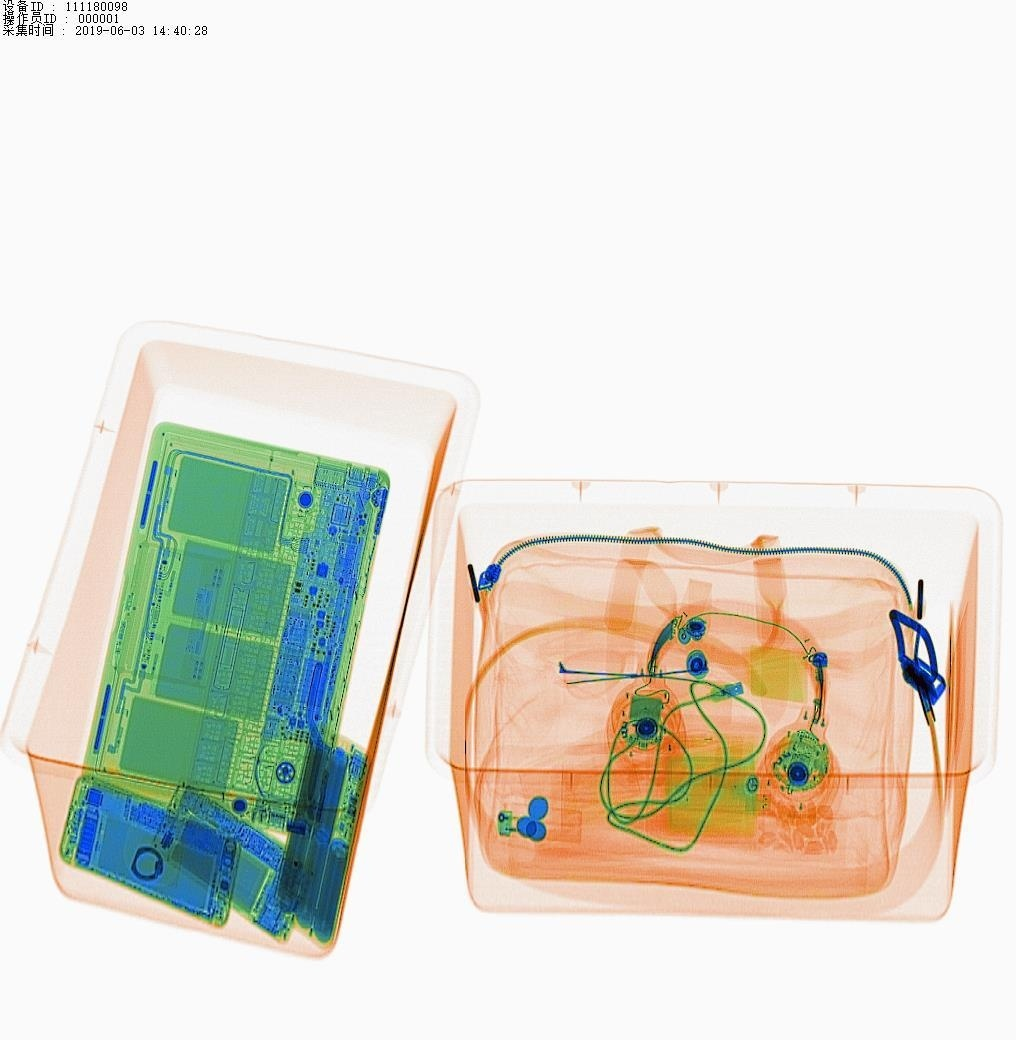NonmetallicFire: (489, 789, 601, 862)
